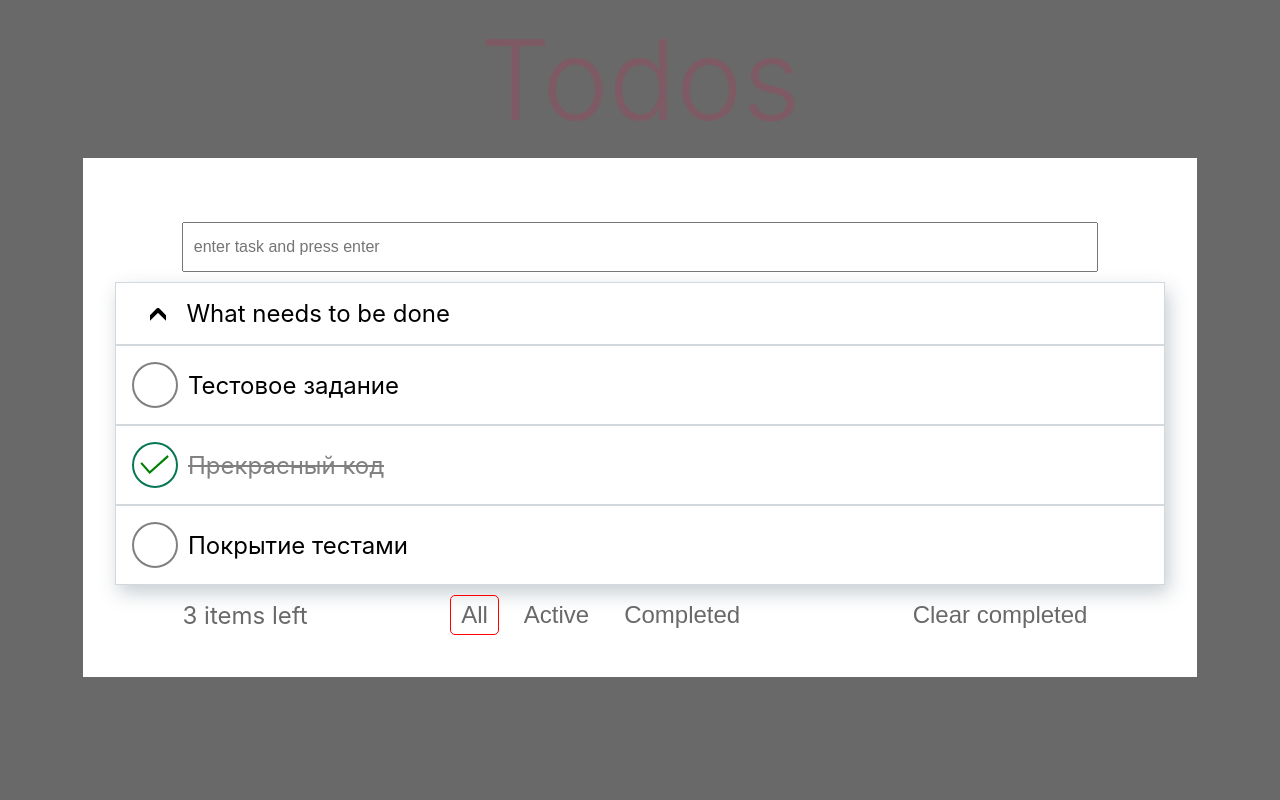
Test case: TodosPage › clear completed checking › clear button is pushed and active todos stay only
Click the button with test id "clear_btn": (1000, 615) [903,596,1098,634]
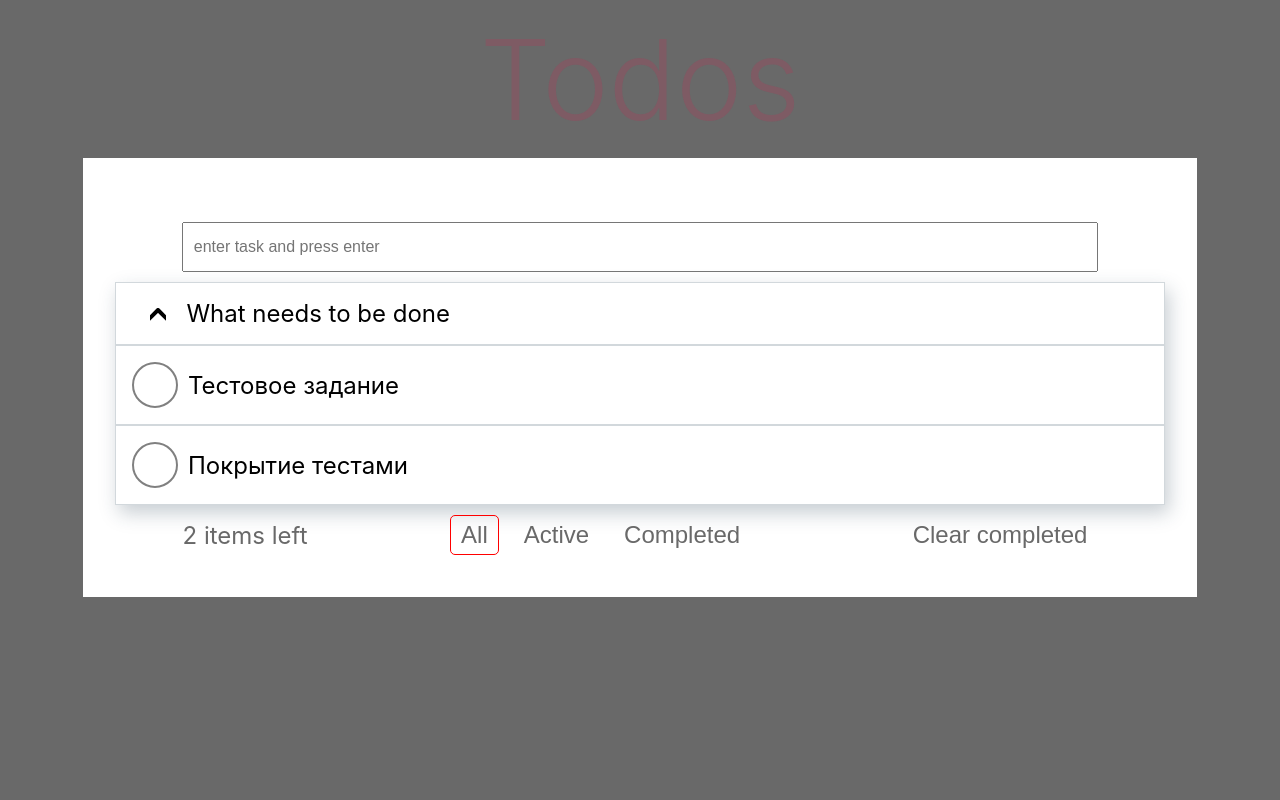
Check: the text "Тестовое задание" is shown, box [188,371,399,400]
Check: the text "Прекрасный код" is gone
